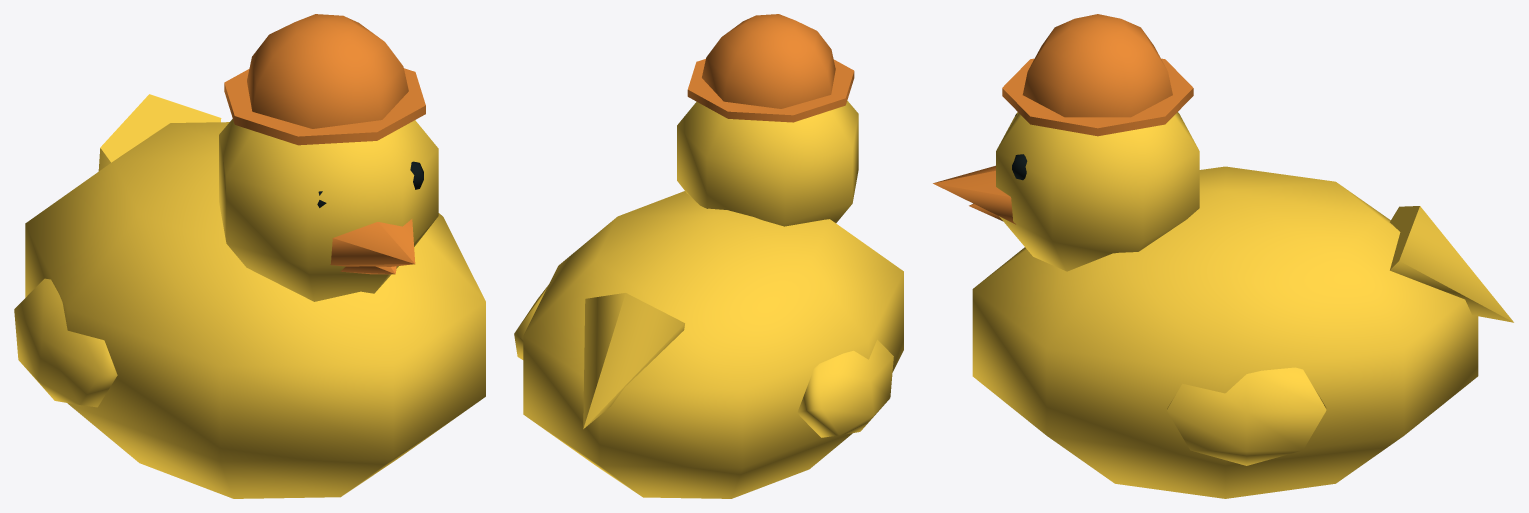
Rendered from duck-hardhat.glb.
3 views of the same model, side by side, from view 1: azimuth 30°, elevation 25°; view 2: azimuth 150°, elevation 25°; view 3: azimuth 270°, elevation 25° (orthographic). The views are drawn at different scales.
Parts seen in each view (by area): view 1: CouncilDuck_hardhat; view 2: CouncilDuck_hardhat; view 3: CouncilDuck_hardhat.
Part boxes in pixels (x1,y1,x2,y2): CouncilDuck_hardhat: [14, 14, 485, 498]; CouncilDuck_hardhat: [514, 14, 903, 498]; CouncilDuck_hardhat: [933, 14, 1513, 498].
Size of the model in its own units: 2.46 by 2.82 by 3.29.
